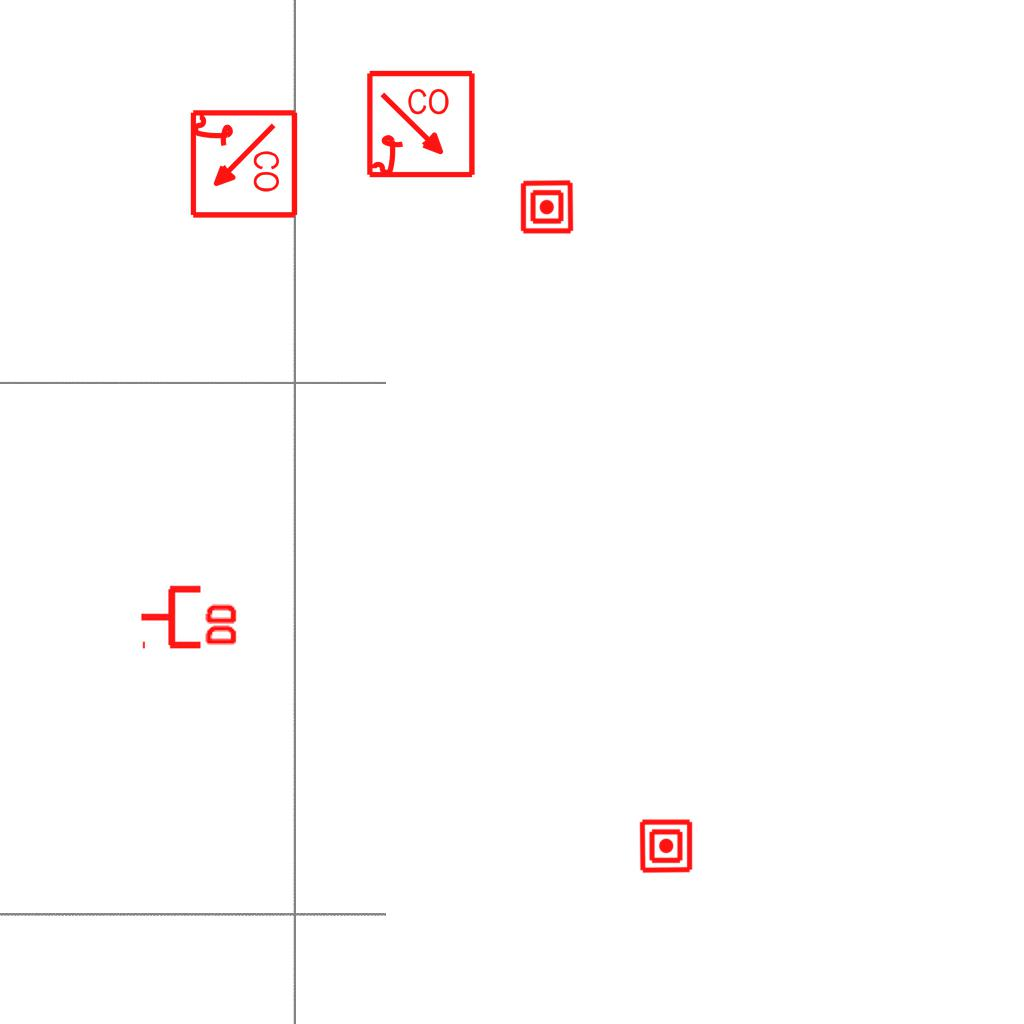Datenanschluss_zweifach: (138, 581, 241, 650)
NAM-Nichtautomatischer_Melder: (519, 179, 575, 235), (638, 818, 694, 874)
ROA_Rauchmelder_optisch_mit_Signalgeber_(Sockelsirene): (365, 69, 478, 182), (186, 108, 299, 221)
